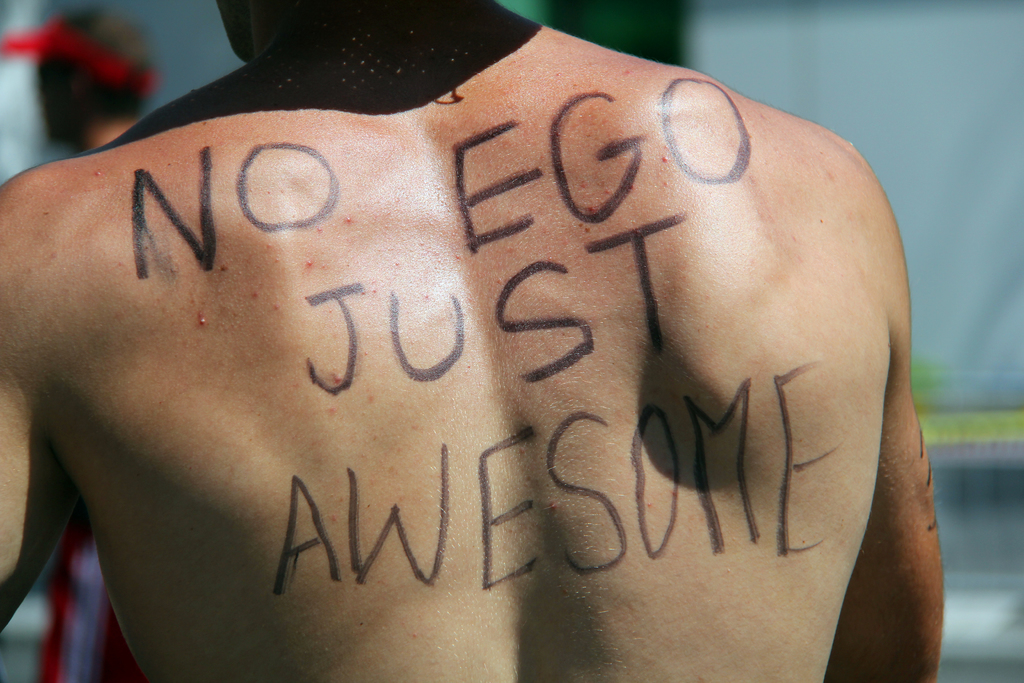person: (0, 2, 162, 201)
